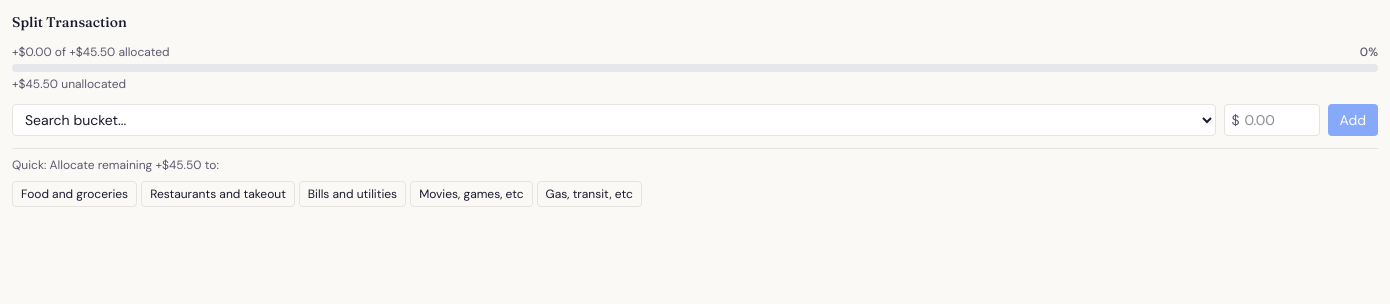
Test: SplitTransaction › clear all › clears all splits when Clear all is clicked
Note: Add a split
Select "Food and groceries" in the dropdown: (614, 120) [12,104,1216,136]
In the number field with placeholder "0.00": (1272, 120) [1224,104,1320,136], type "20"
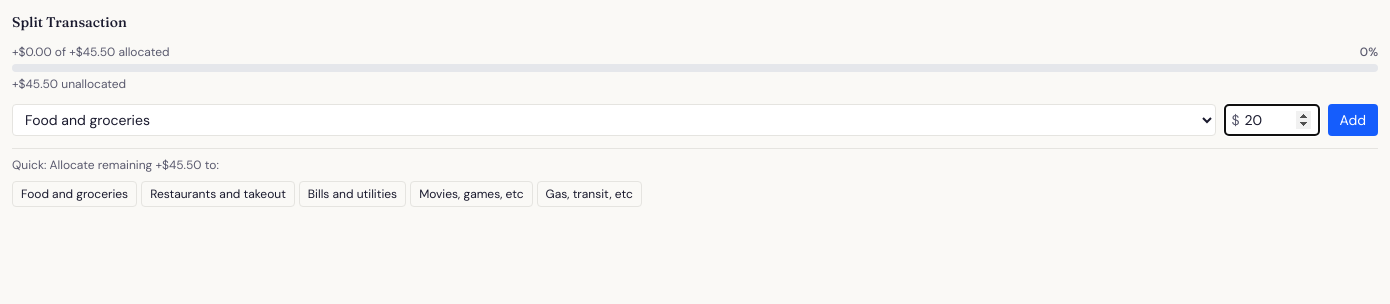
Click the button "Add": click(1353, 120) [1328,104,1378,136]
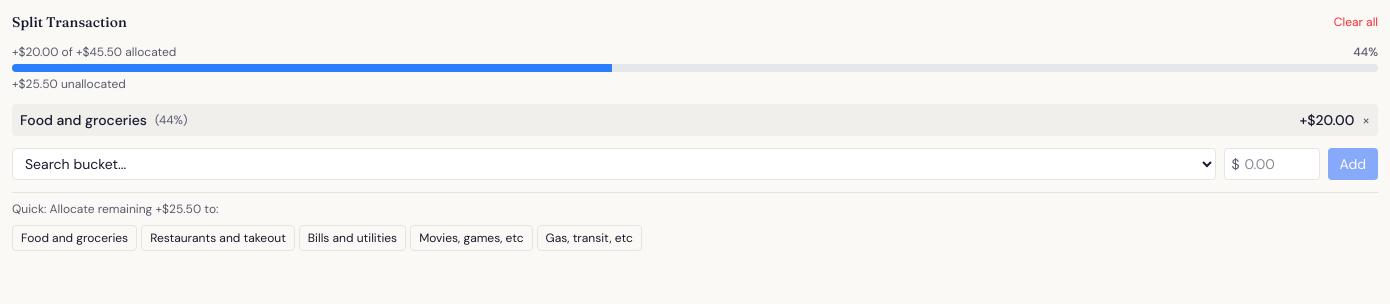
Expected: the text "+$20.00" is shown, [1299,110,1354,130]
Note: Add another split
Select "Restaurants and takeout" in the dropdown: (614, 164) [12,148,1216,180]
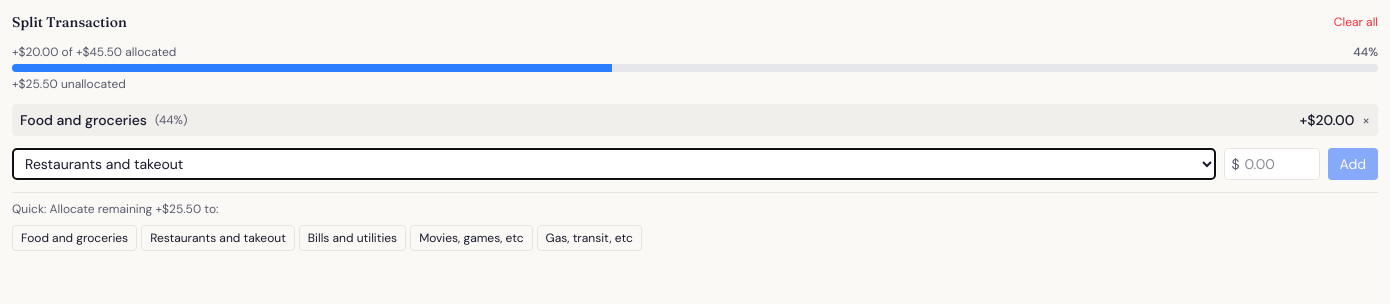
In the number field with placeholder "0.00": (1272, 164) [1224,148,1320,180], type "15"
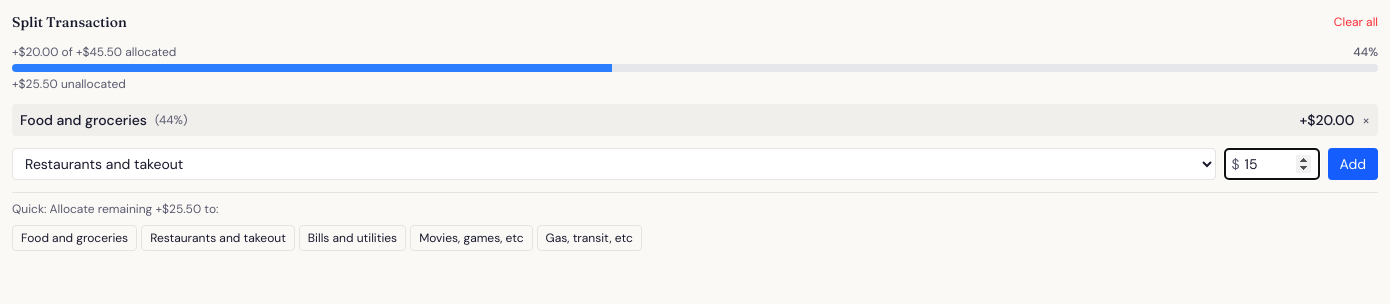
Click the button "Add": click(1353, 164) [1328,148,1378,180]
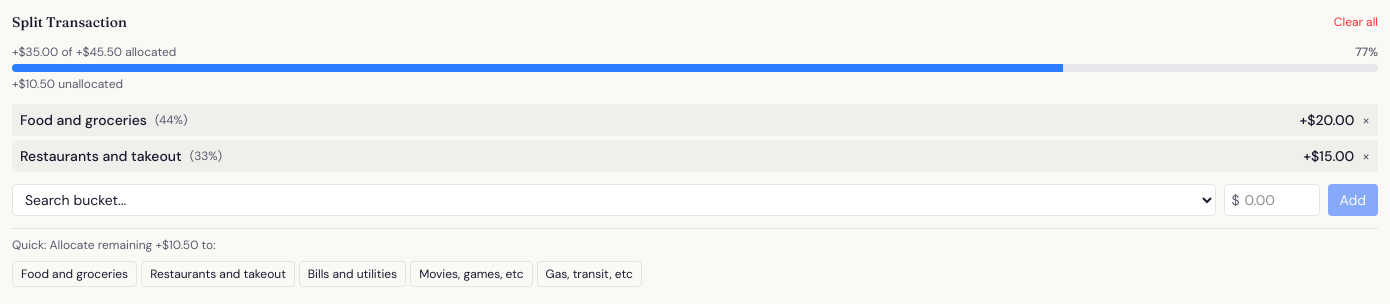
Expected: the text "+$15.00" is shown, [1303,146,1354,166]
Note: Clear all
Click the button "Clear all": click(1356, 22) [1334,14,1378,30]
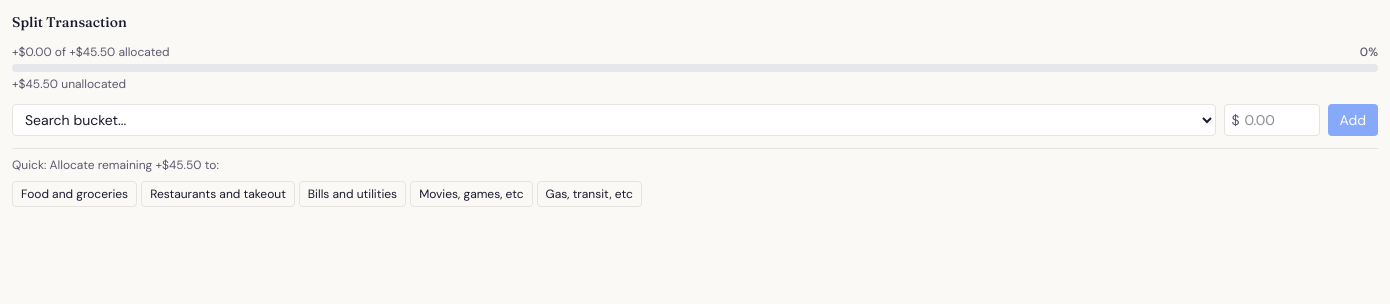
Expected: the text "+$20.00" is gone
Expected: the text "+$15.00" is gone
Expected: the text "0%" is shown, [1360,44,1378,60]
